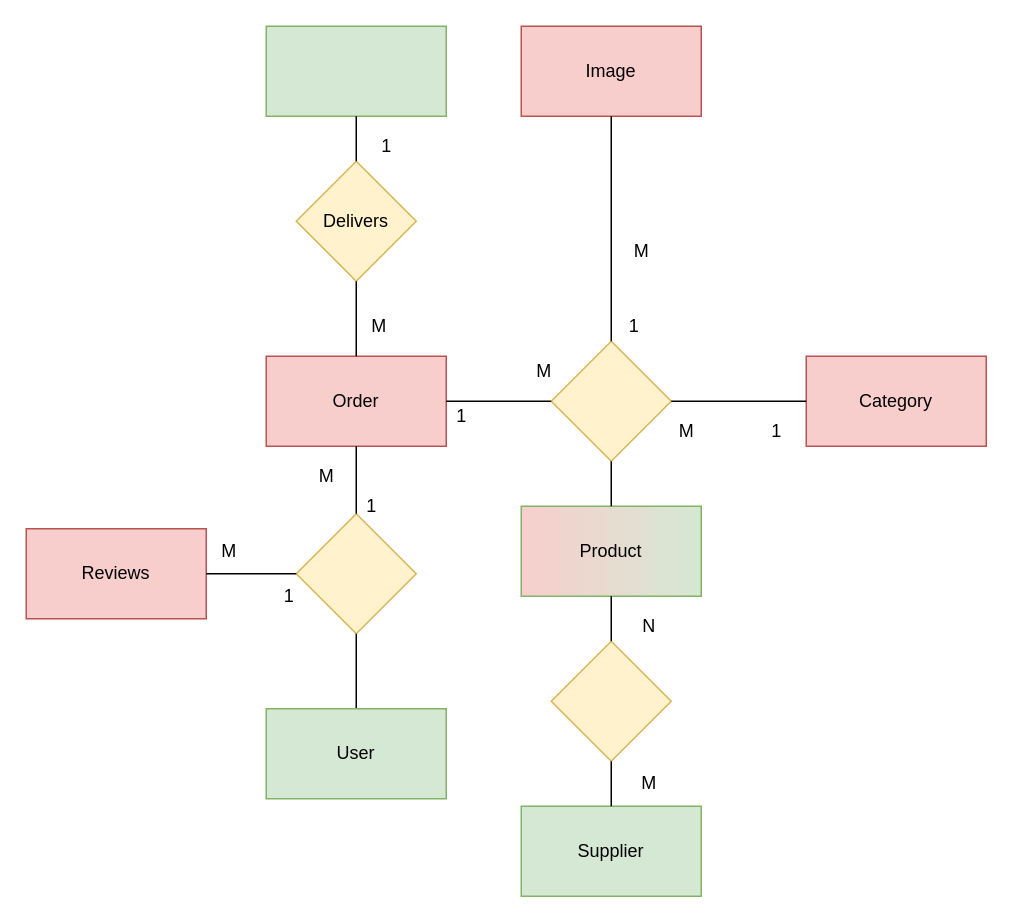
Image size: 1013x923. Some labels were removed from this diagram. Here are the shapes that lost their labels. From the top down, the centre of each, then its label:
At pixel 355 70: "Courrier".
At pixel 610 400: "Has".
At pixel 355 573: "Makes".
At pixel 610 700: "Supplies".
